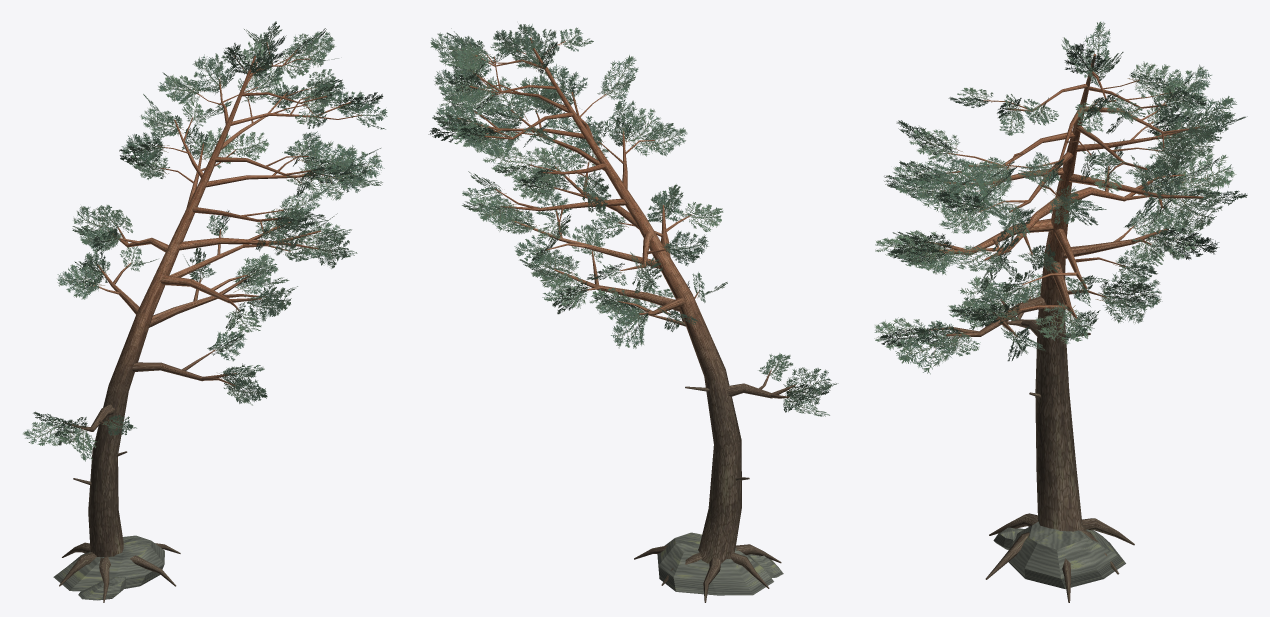
File: tree-pine-2.glb
3 renders of one model, left to right at view 1: azimuth 30°, elevation 25°; view 2: azimuth 150°, elevation 25°; view 3: azimuth 270°, elevation 25°, orthographic. The views are drawn at different scales.
Parts seen in each view (by area): view 1: Scots Pine – Cliff; view 2: Scots Pine – Cliff; view 3: Scots Pine – Cliff.
Boxes of the visible parts, x1,y1,x2,y2 form: Scots Pine – Cliff: (23,21,387,602); Scots Pine – Cliff: (428,24,838,602); Scots Pine – Cliff: (874,21,1247,602).
Bounding box in the file's own units: 7.8 × 10 × 5.53.
2 materials, 2 textured.
